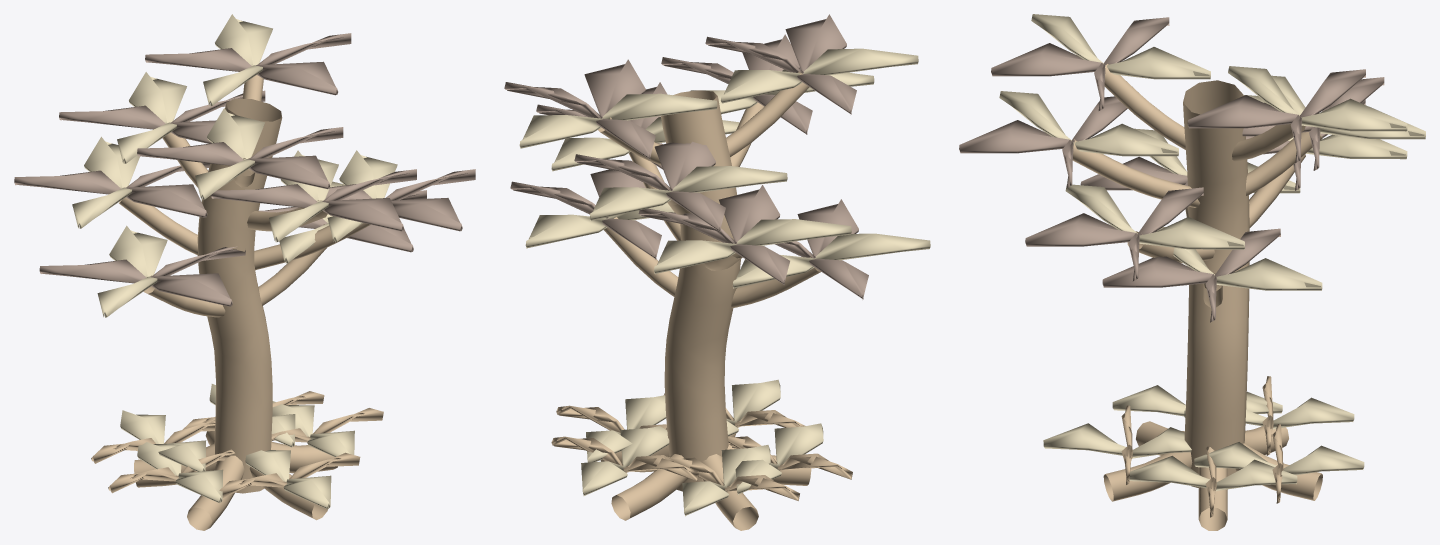
File: bio_canopy_tree_15_far.glb
3 views of the same model, side by side, from view 1: azimuth 30°, elevation 25°; view 2: azimuth 150°, elevation 25°; view 3: azimuth 270°, elevation 25° (orthographic). The views are drawn at different scales.
Parts seen in each view (by area): view 1: Buttressed trunk, Broad canopy leaf.035, Broad canopy leaf.015, Broad canopy leaf.010, Broad canopy leaf.020, Broad canopy leaf.005, Broad canopy leaf.030, Broad canopy leaf.021, Broad canopy leaf.036, Broad canopy leaf.016, Broad canopy leaf.025, Broad canopy leaf.031 (+15 smaller); view 2: Buttressed trunk, Broad canopy leaf.015, Broad canopy leaf.035, Broad canopy leaf.005, Broad canopy leaf.030, Broad canopy leaf.006, Broad canopy leaf.031, Broad canopy leaf.016, Broad canopy leaf.036, Broad canopy leaf.021, Broad canopy leaf, Broad canopy leaf.020 (+15 smaller); view 3: Buttressed trunk, Broad canopy leaf.035, Broad canopy leaf.015, Broad canopy leaf.025, Broad canopy leaf, Broad canopy leaf.010, Broad canopy leaf.016, Broad canopy leaf.011, Broad canopy leaf.026, Broad canopy leaf.036, Low buttress leaf.001, Broad canopy leaf.001 (+12 smaller).
Boxes of the visible parts, <box> form: Buttressed trunk: <box>119,75,370,530</box>; Broad canopy leaf.035: <box>137,127,343,189</box>; Broad canopy leaf.015: <box>145,33,351,95</box>; Broad canopy leaf.010: <box>211,169,416,231</box>; Broad canopy leaf.020: <box>39,246,245,306</box>; Broad canopy leaf.005: <box>14,162,209,217</box>; Broad canopy leaf.030: <box>59,90,265,143</box>; Broad canopy leaf.021: <box>97,225,167,317</box>; Broad canopy leaf.036: <box>195,108,265,199</box>; Broad canopy leaf.016: <box>203,14,272,106</box>; Broad canopy leaf.025: <box>325,169,475,231</box>; Broad canopy leaf.031: <box>117,72,186,163</box>; Buttressed trunk: <box>598,71,820,530</box>; Broad canopy leaf.015: <box>504,59,655,159</box>; Broad canopy leaf.035: <box>705,14,856,114</box>; Broad canopy leaf.005: <box>638,185,789,284</box>; Broad canopy leaf.030: <box>574,141,725,232</box>; Broad canopy leaf.006: <box>654,219,851,273</box>; Broad canopy leaf.031: <box>589,166,787,220</box>; Broad canopy leaf.016: <box>519,93,717,148</box>; Broad canopy leaf.036: <box>720,48,918,103</box>; Broad canopy leaf.021: <box>732,233,930,288</box>; Broad canopy leaf: <box>510,169,661,259</box>; Broad canopy leaf.020: <box>775,199,868,299</box>; Buttressed trunk: <box>1072,64,1322,530</box>; Broad canopy leaf.035: <box>991,17,1169,110</box>; Broad canopy leaf.015: <box>1187,69,1365,163</box>; Broad canopy leaf.025: <box>1025,187,1203,281</box>; Broad canopy leaf: <box>1102,228,1280,322</box>; Broad canopy leaf.010: <box>959,96,1127,187</box>; Broad canopy leaf.016: <box>1228,66,1407,131</box>; Broad canopy leaf.011: <box>999,91,1178,156</box>; Broad canopy leaf.026: <box>1065,184,1244,249</box>; Broad canopy leaf.036: <box>1031,14,1210,79</box>; Low buttress leaf.001: <box>1129,455,1297,491</box>; Broad canopy leaf.001: <box>1157,227,1322,290</box>.
Bounding box in the file's own units: 2.97 × 2.99 × 3.05.
